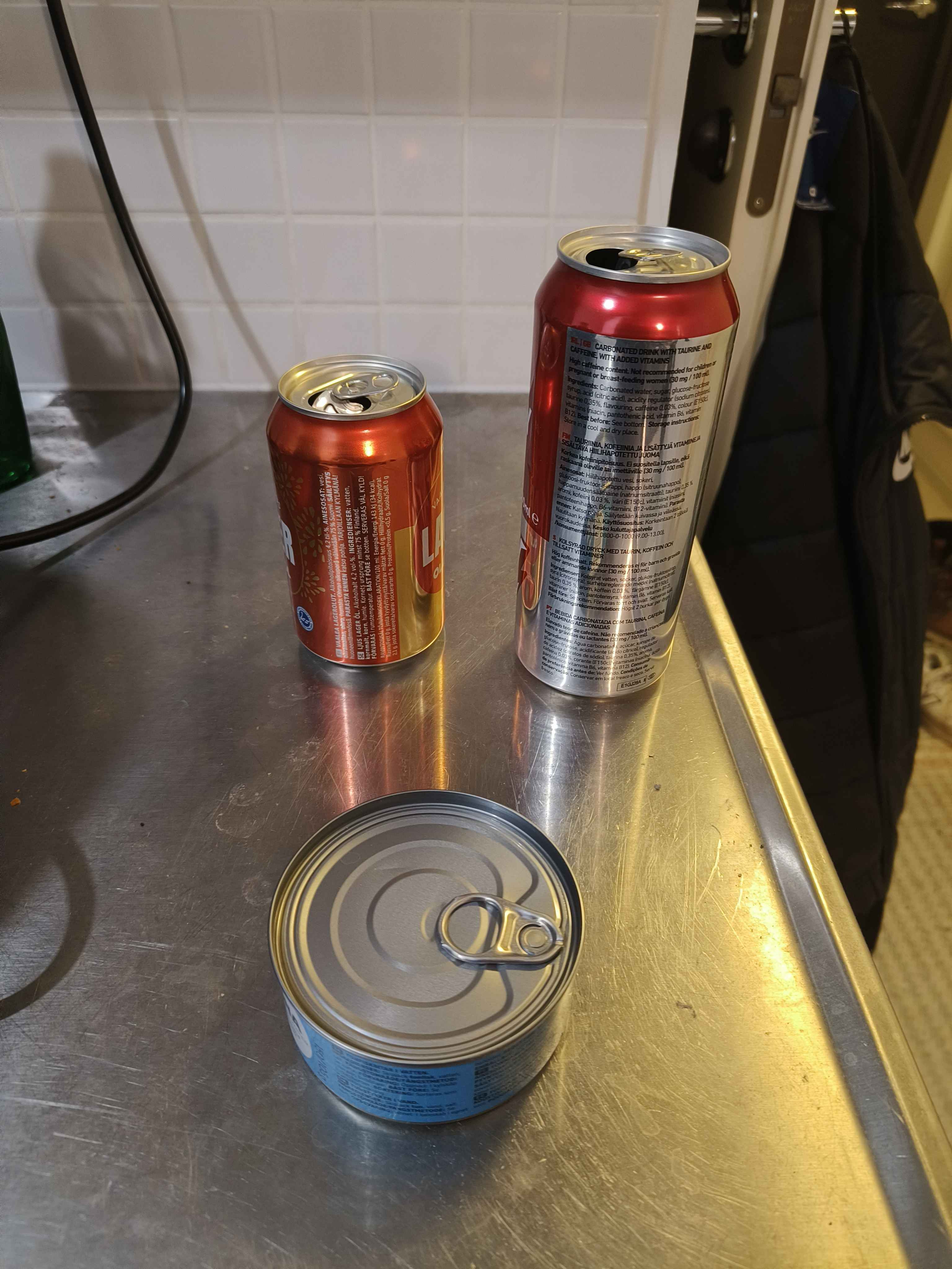Konservburk: (268, 787, 586, 1129)
Pantburk: (511, 223, 742, 702), (265, 353, 446, 672)
